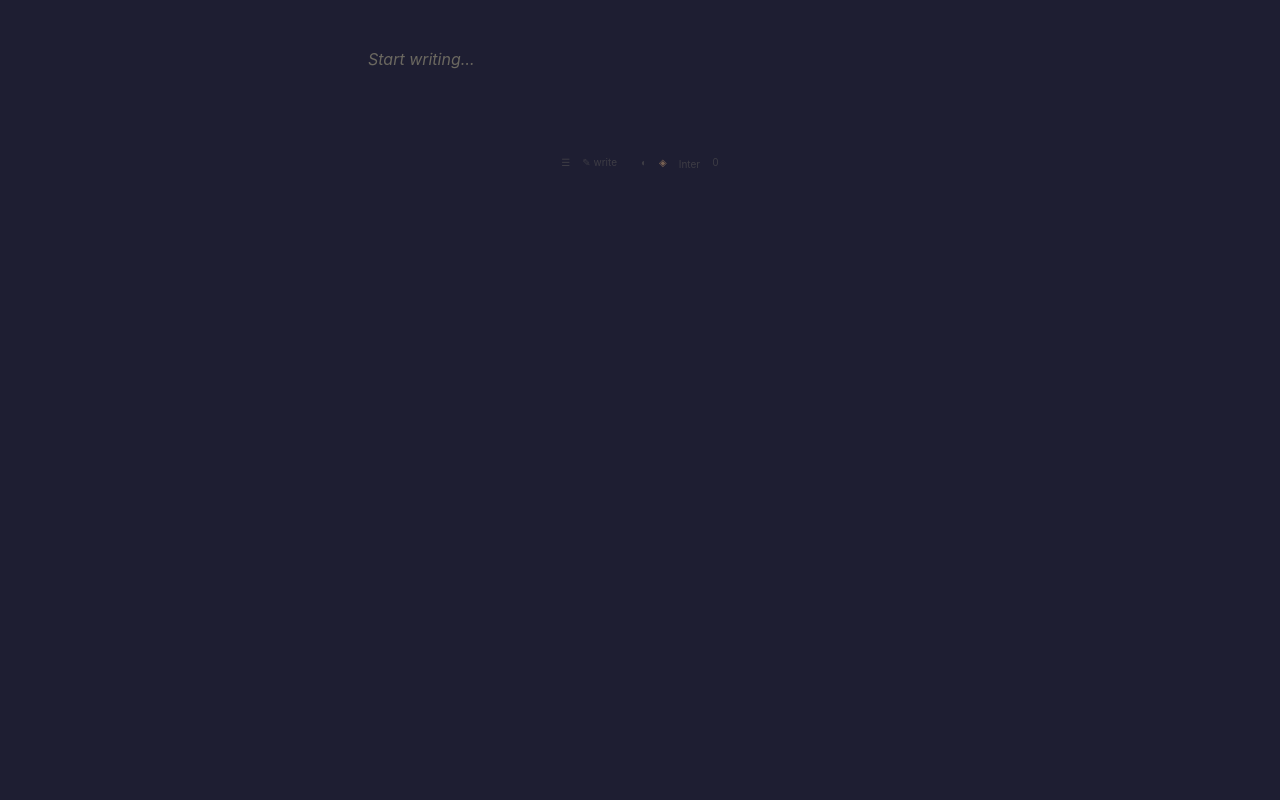
Test: Page › toggles theme via button click
The image size is (1280, 800).
Click the button with test id "theme-toggle": (644, 162) [641,154,647,170]
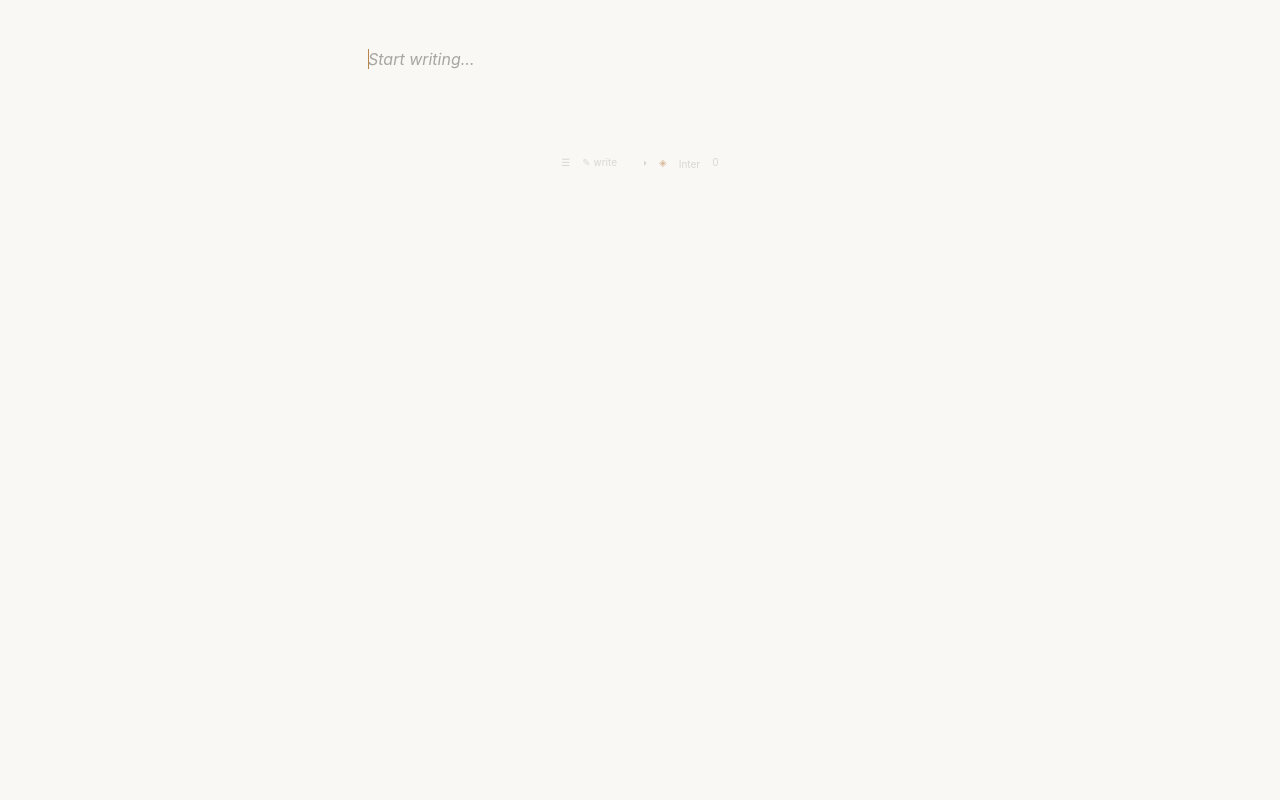
Now the button with test id "theme-toggle" reads "◑", box [641,154,647,170]
